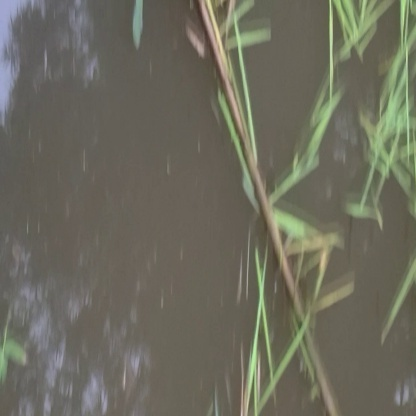branch: (193, 7, 337, 409)
